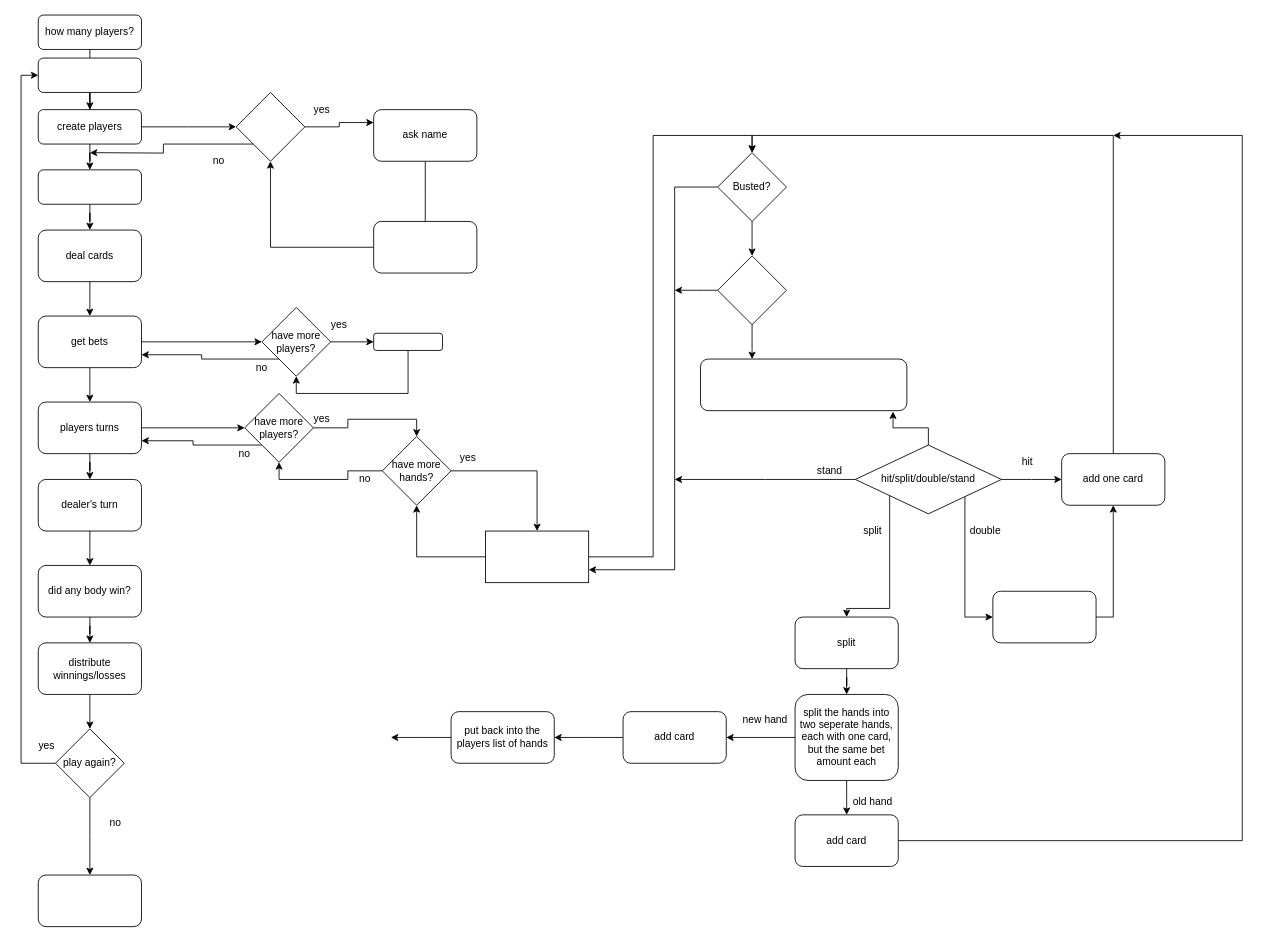
This 1264x942 diagram has some shape labels left out. The centre of each missing label's shape, as x and y in pixels:
"ask money" goes at (x=425, y=247).
"blackjack" goes at (x=751, y=290).
"can split?/can double?" goes at (x=803, y=384).
"create Dealer" goes at (x=89, y=186).
"deal with the hand" goes at (x=537, y=556).
"double the bet" goes at (x=1044, y=616).
"exit()" goes at (x=89, y=900).
"get bet" goes at (x=407, y=341).
"if more players to create" goes at (x=270, y=126).
"load cards" goes at (x=89, y=74).
